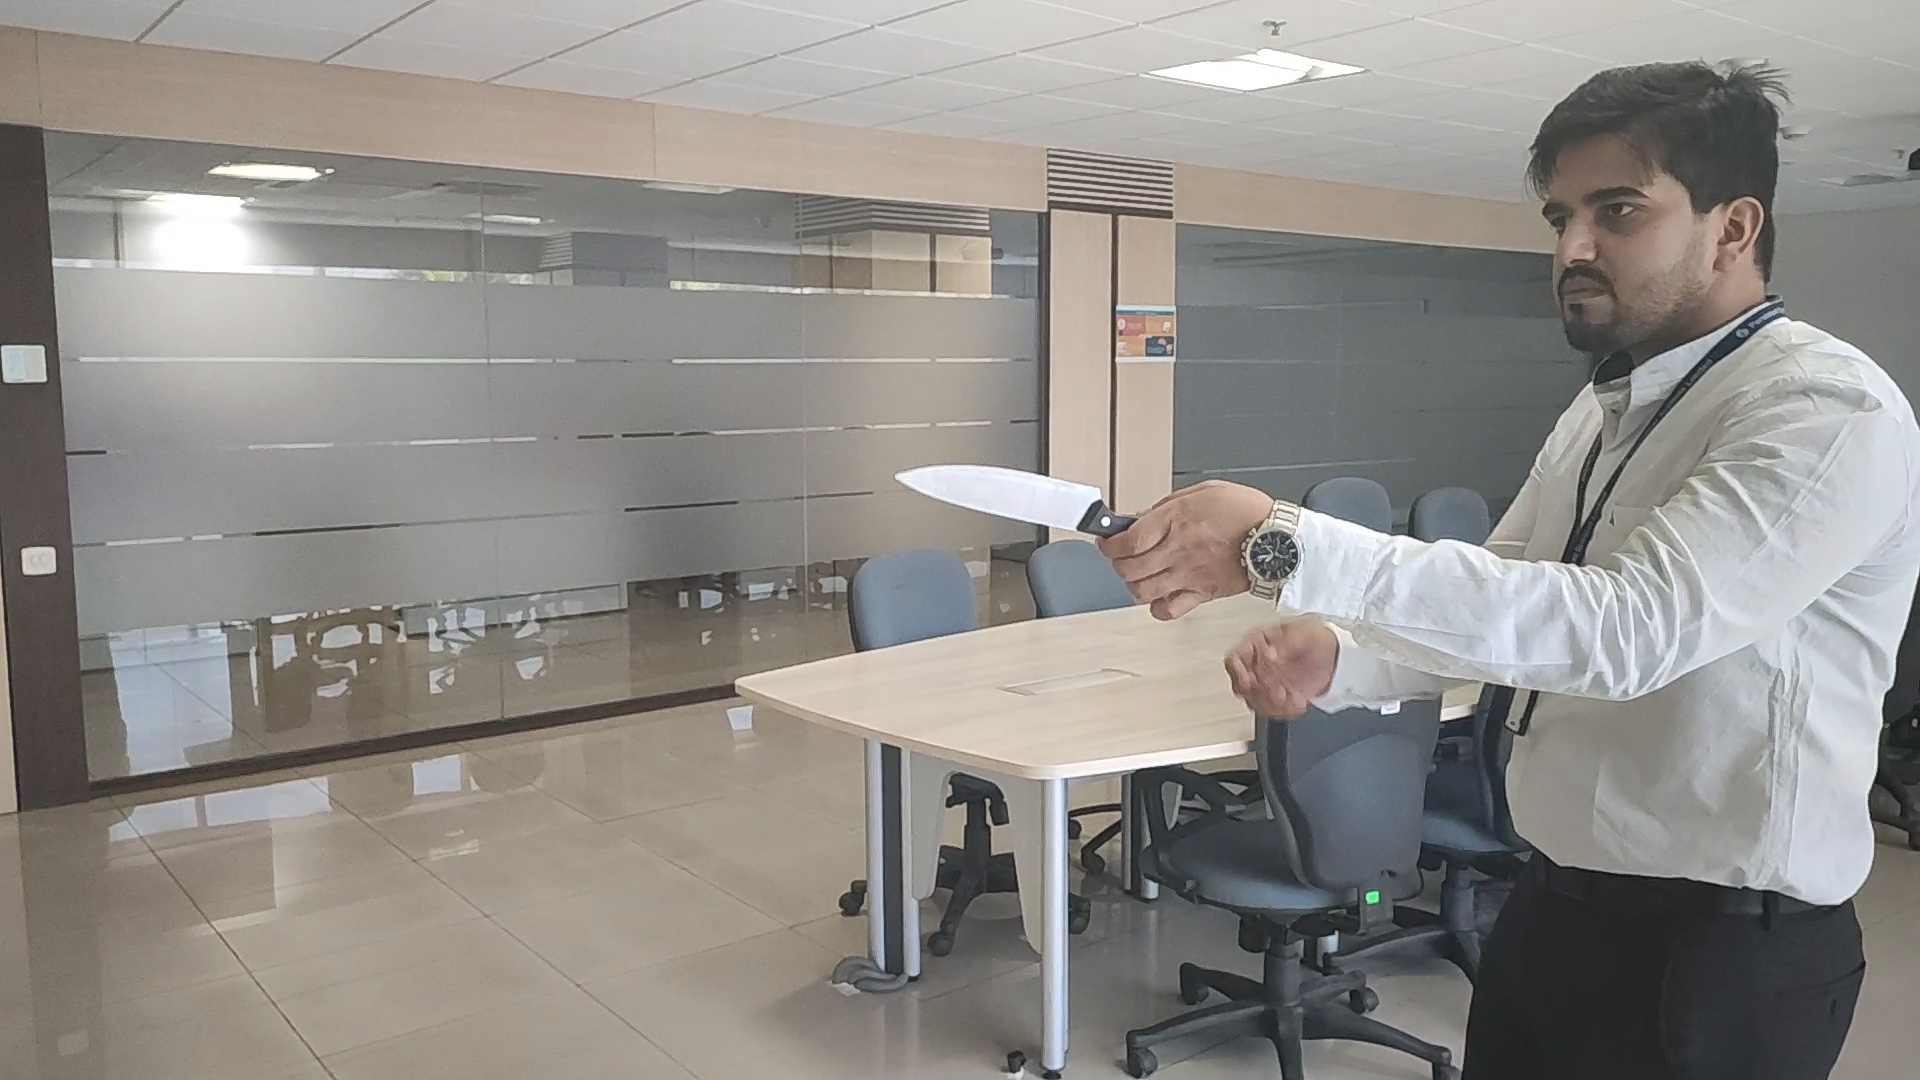knife: (891, 462, 1131, 531)
